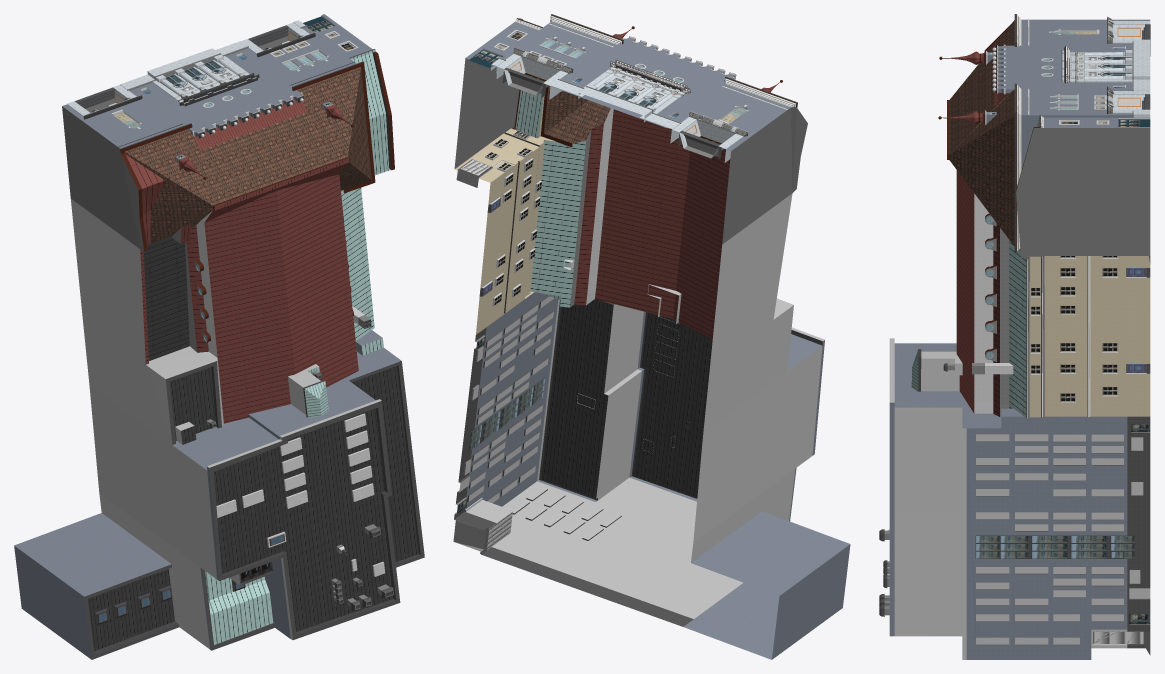
File: Vabaduse-Valjak_5.obj
3 views of the same model, side by side, from view 1: azimuth 30°, elevation 25°; view 2: azimuth 150°, elevation 25°; view 3: azimuth 270°, elevation 25° (orthographic). The views are drawn at different scales.
Visible parts, largest first — view 1: Vabaduse_Valiak_5; view 2: Vabaduse_Valiak_5; view 3: Vabaduse_Valiak_5.
Part boxes in pixels (x1=…): Vabaduse_Valiak_5: x1=14, y1=14, x2=424, y2=659; Vabaduse_Valiak_5: x1=453, y1=14, x2=850, y2=659; Vabaduse_Valiak_5: x1=879, y1=14, x2=1150, y2=659.
Size of the model in its own units: 41.93 by 64.78 by 27.99.
